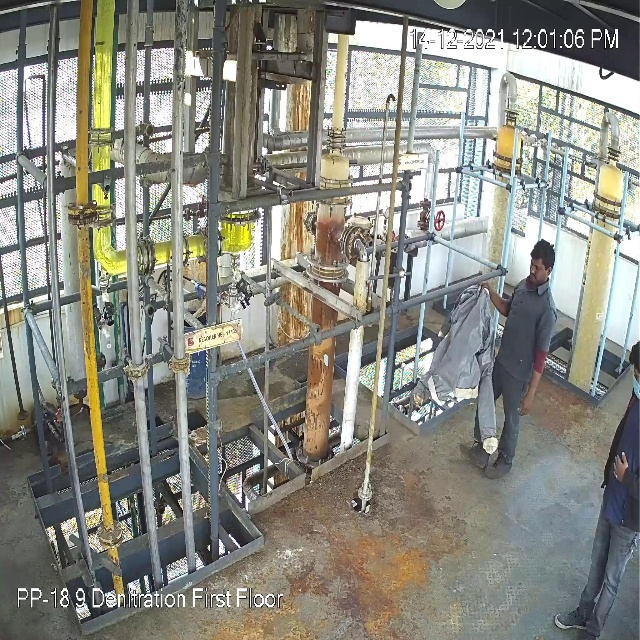Sin_mascara: (528, 268, 544, 285)
